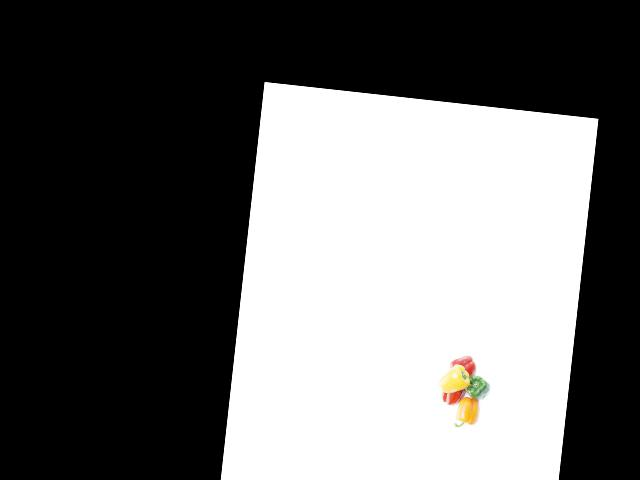bell_pepper: (458, 368, 495, 402)
